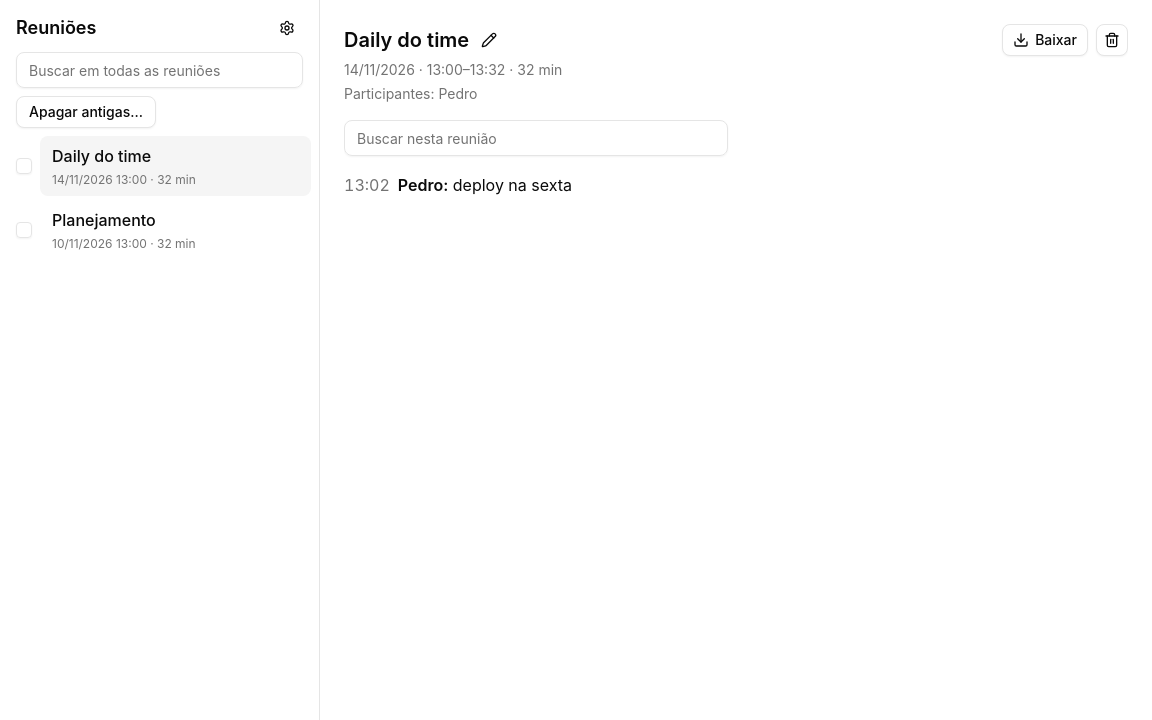
Test case: MeetingsApp › renomear pela tela grava no storage
The image size is (1152, 720).
Click the button named "Renomear reunião" at (489, 40), box [473, 24, 505, 56]
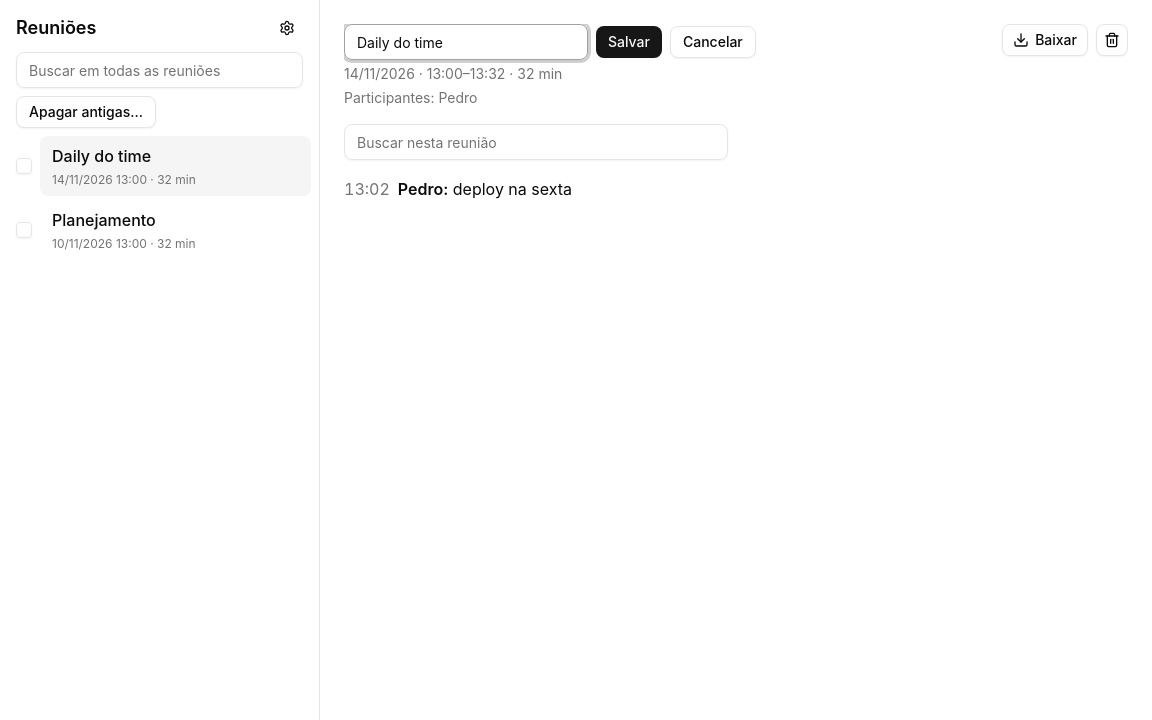
Replace the text in the field named "Título da reunião" with "Novo nome" at (466, 42), box [344, 24, 588, 60]
Then press Enter
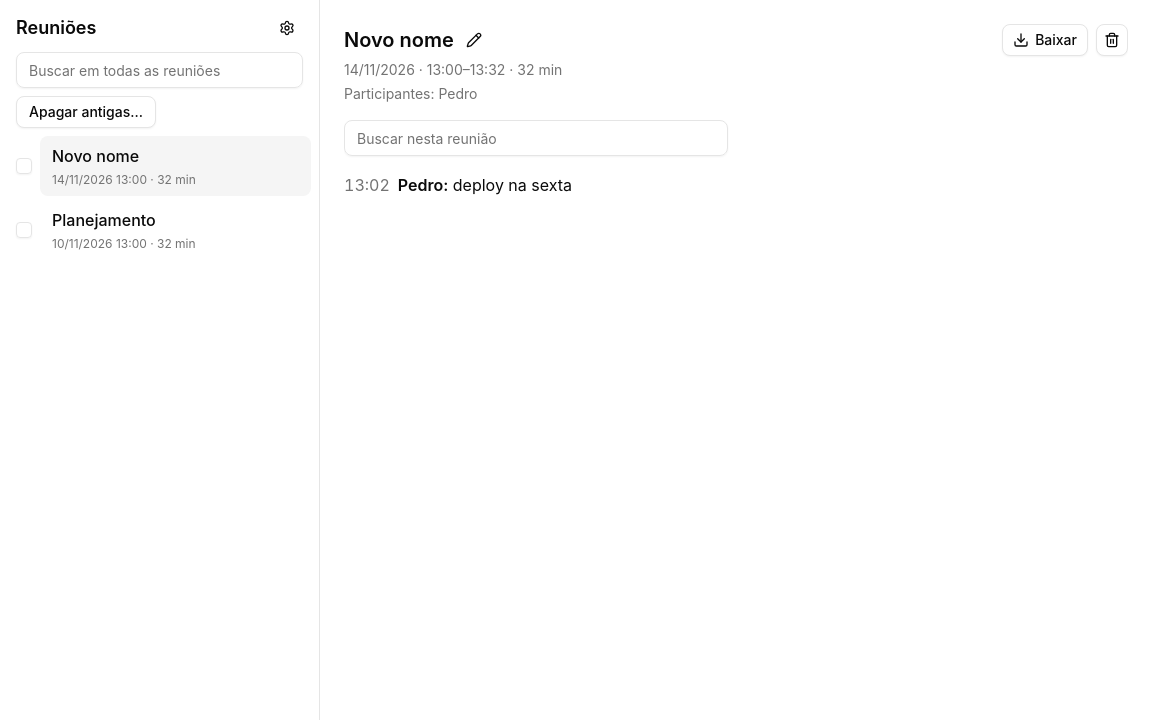
Result: the text "Novo nome" is shown at [52, 144, 139, 168]
